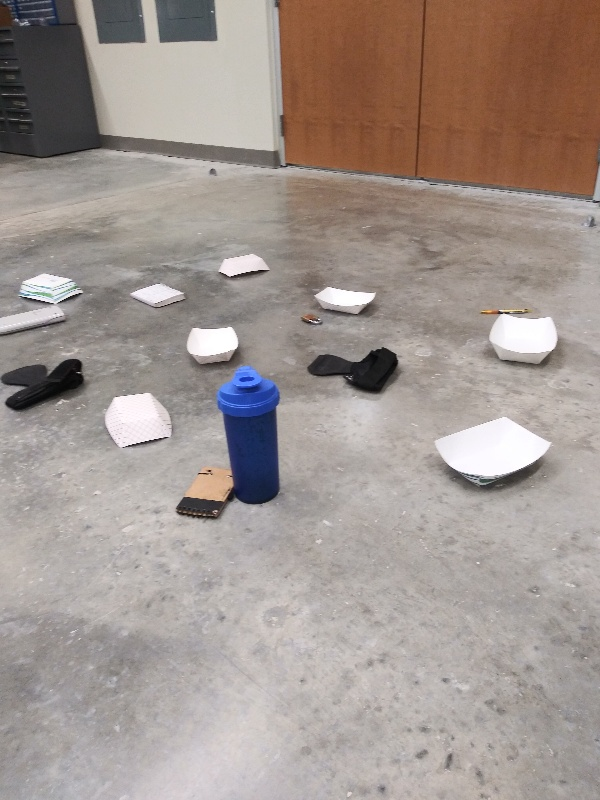plate: (432, 415, 557, 492), (481, 311, 563, 370), (99, 391, 178, 449), (12, 269, 88, 310), (182, 321, 243, 368), (309, 282, 379, 320), (215, 253, 272, 278)
